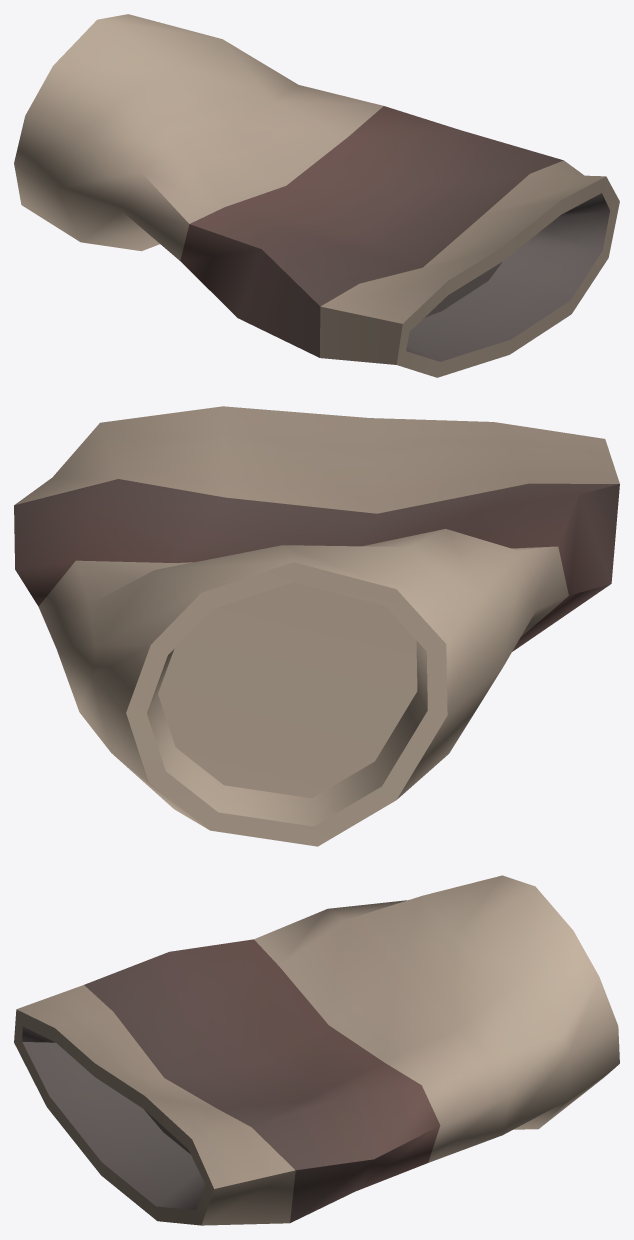
File: Trash_003.glb
The picture shows the model from 3 angles, top to bottom: view 1: azimuth 30°, elevation 25°; view 2: azimuth 150°, elevation 25°; view 3: azimuth 270°, elevation 25°; orthographic projection. The views are drawn at different scales.
Visible parts, largest first — view 1: Trash_003; view 2: Trash_003; view 3: Trash_003.
Boxes of the visible parts, x1=… form: Trash_003: x1=14, y1=14, x2=619, y2=377; Trash_003: x1=14, y1=406, x2=619, y2=846; Trash_003: x1=14, y1=875, x2=619, y2=1225.
Size of the model in its own units: 0.1416 by 0.0645 by 0.1715.
1 material, 1 textured.
